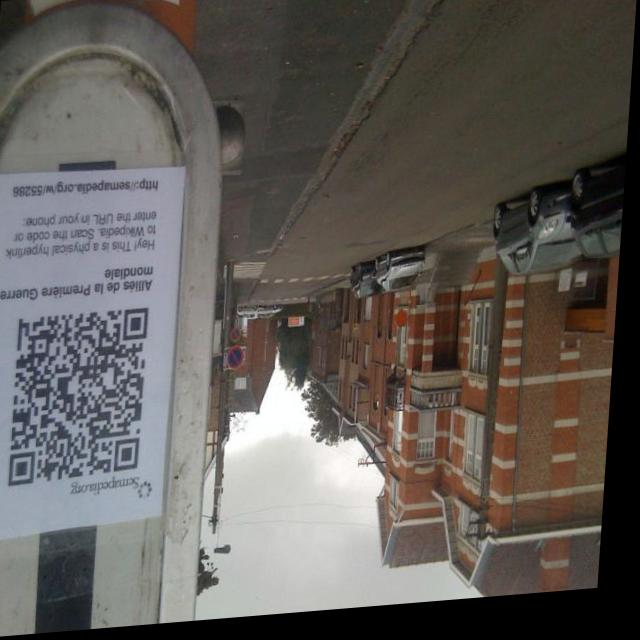qrcode: (15, 311, 153, 487)
